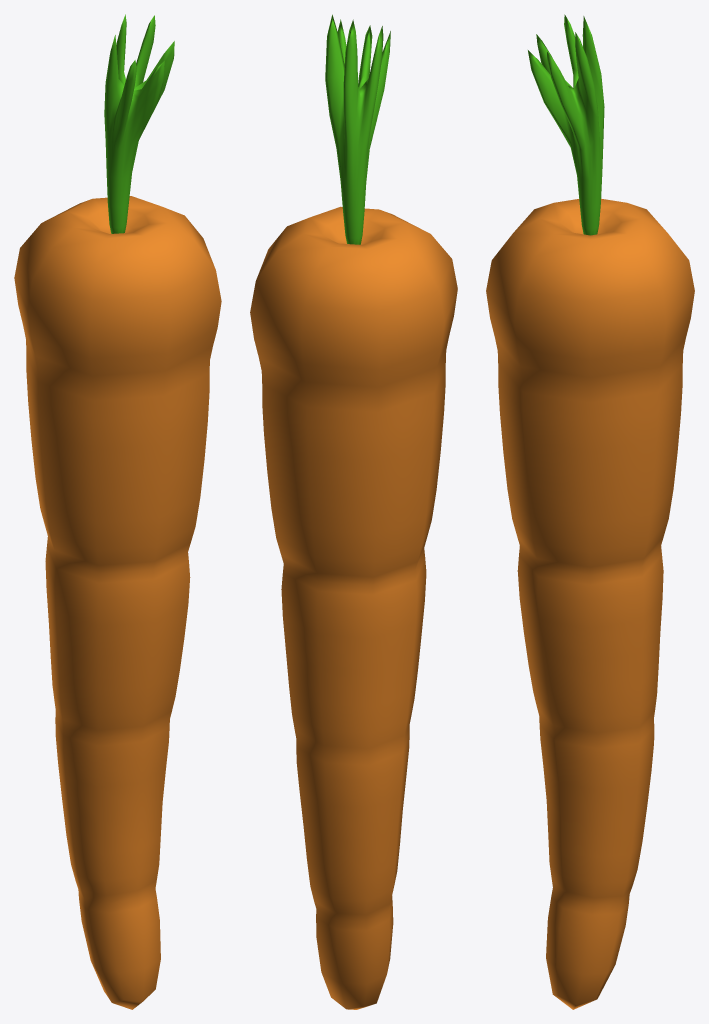
The model's file is Carrot.glb.
The picture shows the model from 3 angles, left to right: view 1: azimuth 30°, elevation 25°; view 2: azimuth 150°, elevation 25°; view 3: azimuth 270°, elevation 25°; orthographic projection.
Visible parts, largest first — view 1: Carrot, Stalk; view 2: Carrot, Stalk; view 3: Carrot, Stalk.
Part boxes in pixels (box(x1,y1,x2,y2)): Carrot: box(14, 196, 221, 1009); Stalk: box(104, 14, 174, 233); Carrot: box(250, 206, 457, 1009); Stalk: box(325, 14, 390, 244); Carrot: box(486, 198, 694, 1009); Stalk: box(528, 14, 604, 235).
Bounding box in the file's own units: 0.4915 × 2.58 × 0.4915.
